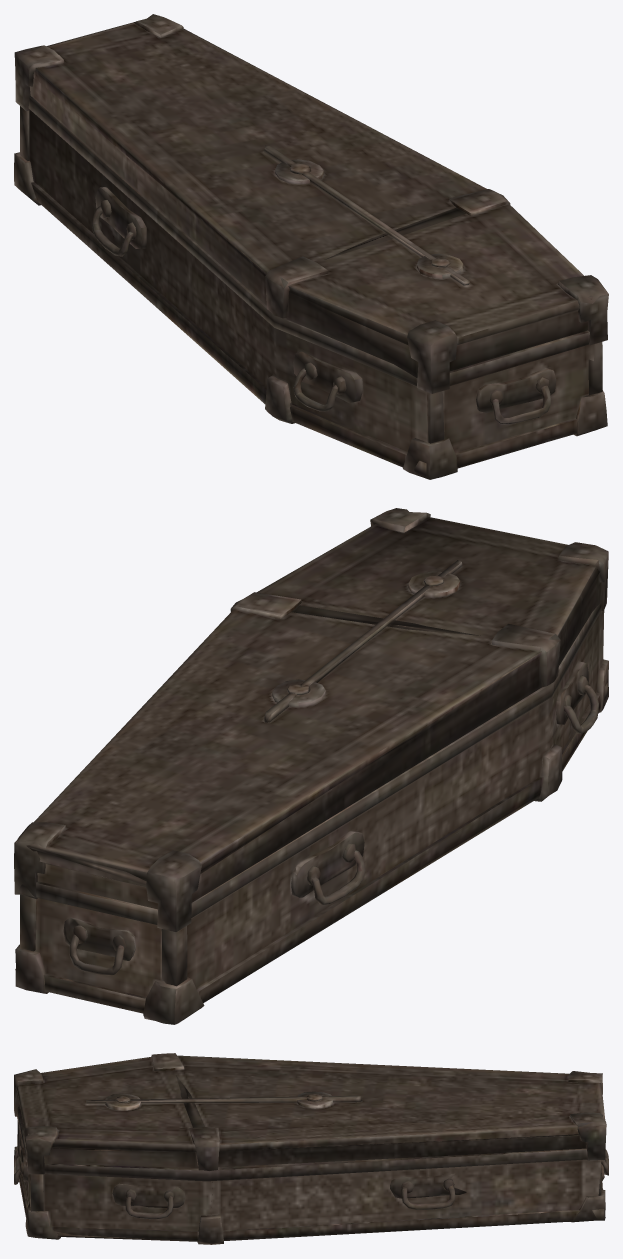
The model's file is h_coffin_decorated.glb.
3 views of the same model, one above another, from view 1: azimuth 30°, elevation 25°; view 2: azimuth 150°, elevation 25°; view 3: azimuth 270°, elevation 25° (orthographic). The views are drawn at different scales.
Parts seen in each view (by area): view 1: h_coffin_decorated; view 2: h_coffin_decorated; view 3: h_coffin_decorated.
Boxes of the visible parts, bbox=[...] form: h_coffin_decorated: bbox=[14, 14, 608, 479]; h_coffin_decorated: bbox=[14, 508, 608, 1024]; h_coffin_decorated: bbox=[14, 1053, 608, 1244].
Size of the model in its own units: 1.14 by 0.5907 by 3.
Materials: 1 (1 with a texture image).
